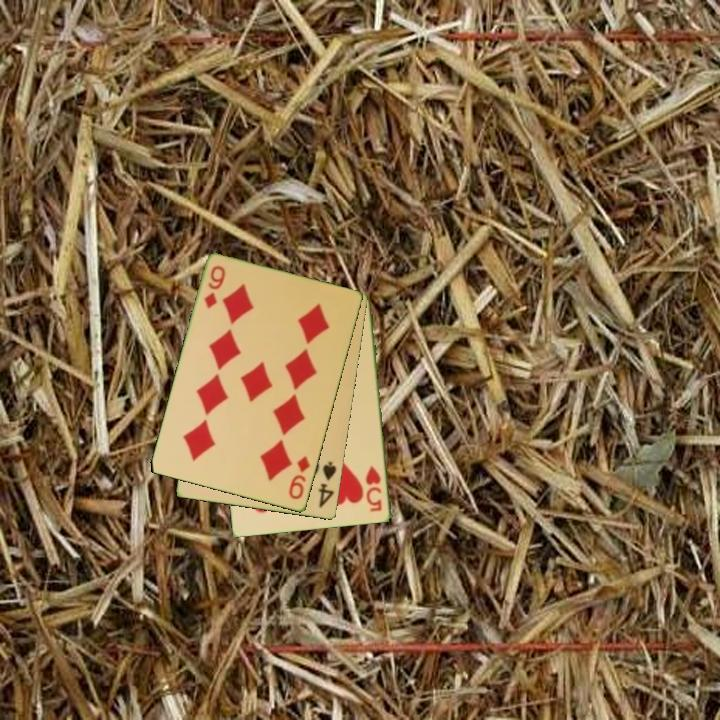4s: (315, 458, 339, 511)
5h: (363, 463, 385, 515)
9d: (285, 453, 313, 503), (201, 262, 228, 312)
